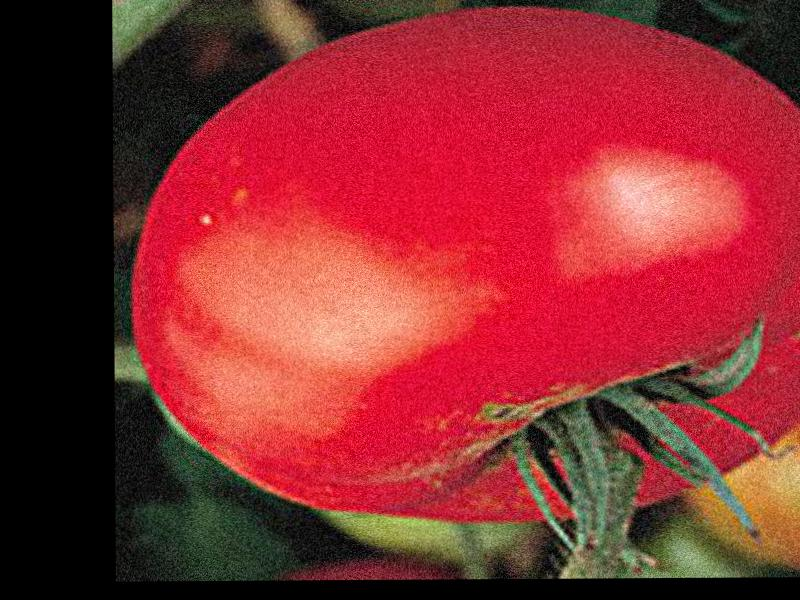Tomato: (134, 3, 800, 522)
